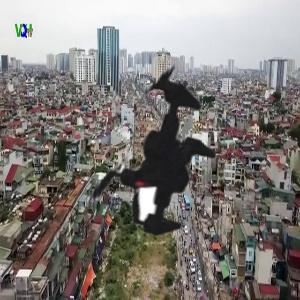drone: (25, 28, 277, 280)
